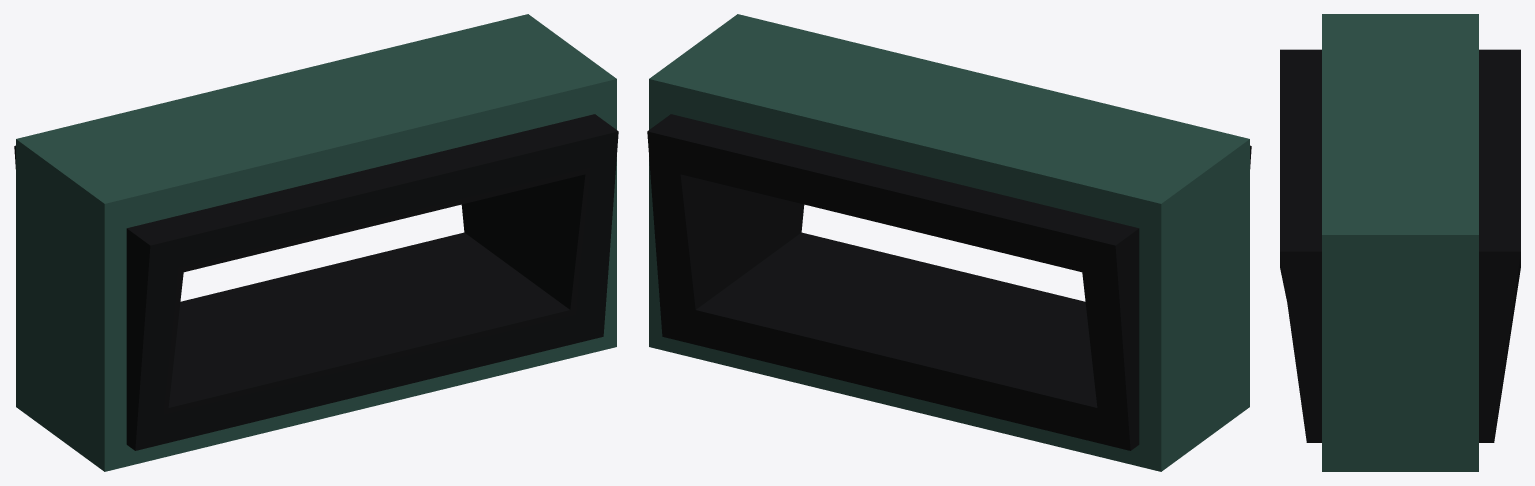
Rendered from W2_WindowSquare_1m_Top.fbx.
3 renders of one model, left to right at view 1: azimuth 30°, elevation 25°; view 2: azimuth 150°, elevation 25°; view 3: azimuth 270°, elevation 25°, orthographic. The views are drawn at different scales.
Visible parts, largest first — view 1: W2_WindowSquare_1m_Top.001; view 2: W2_WindowSquare_1m_Top.001; view 3: W2_WindowSquare_1m_Top.001.
Part boxes in pixels (x1,y1,x2,y2): W2_WindowSquare_1m_Top.001: [14, 14, 618, 471]; W2_WindowSquare_1m_Top.001: [647, 14, 1251, 471]; W2_WindowSquare_1m_Top.001: [1280, 14, 1520, 471].
Bounding box in the file's own units: 1 × 0.5 × 0.4603.
